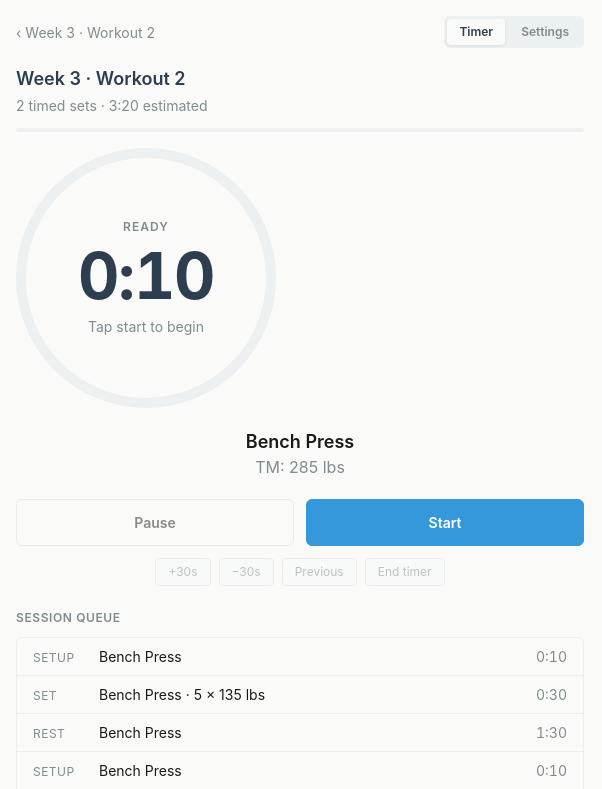
Test: WorkoutTimerView › the Settings tab › keeps the previous value when a typed duration is unparseable
Click the tab "Settings" at (545, 32), box [509,19,581,45]
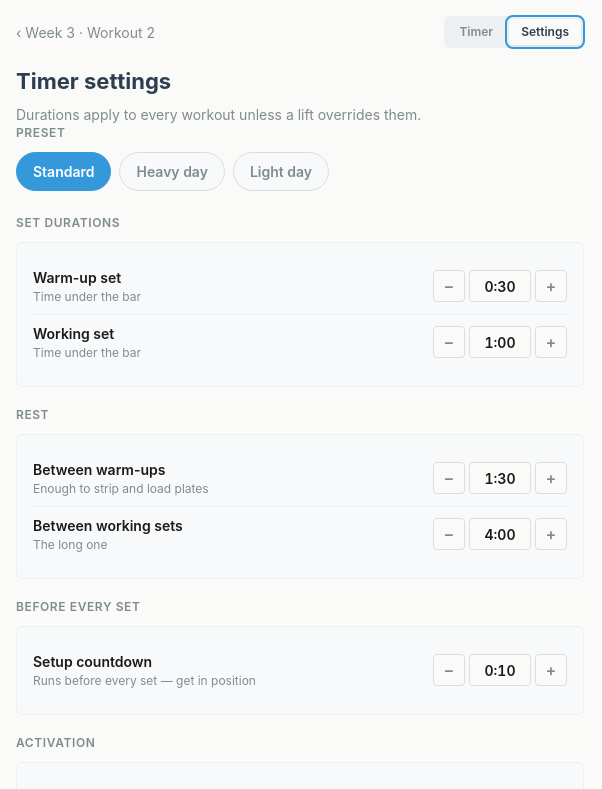
Replace the text in the field named "Working set" with "abc" at (500, 342), box [469,326,531,358]
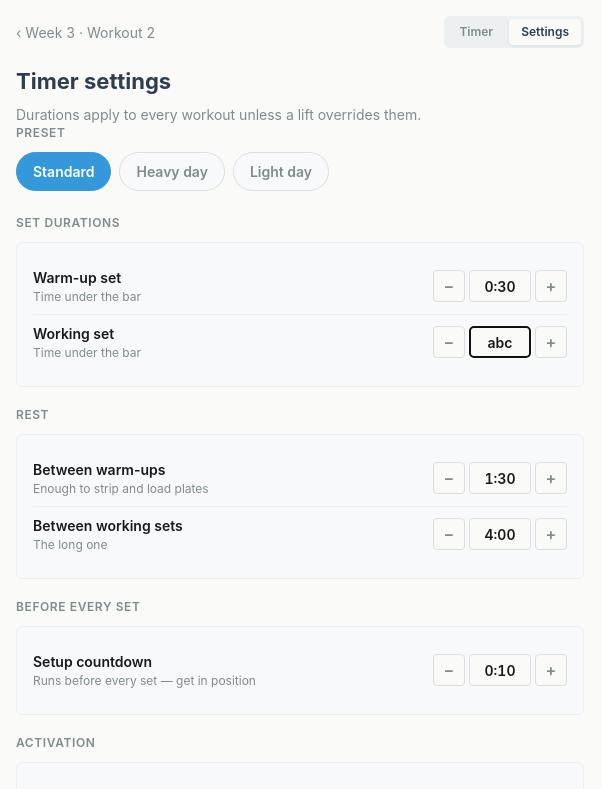
Press Tab
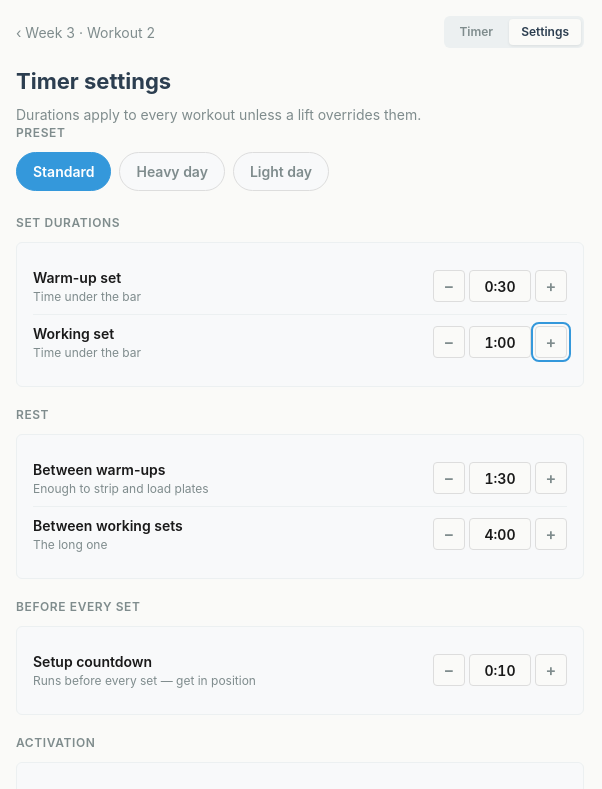
expect the field named "Working set" holds "1:00": met, box [469,326,531,358]
